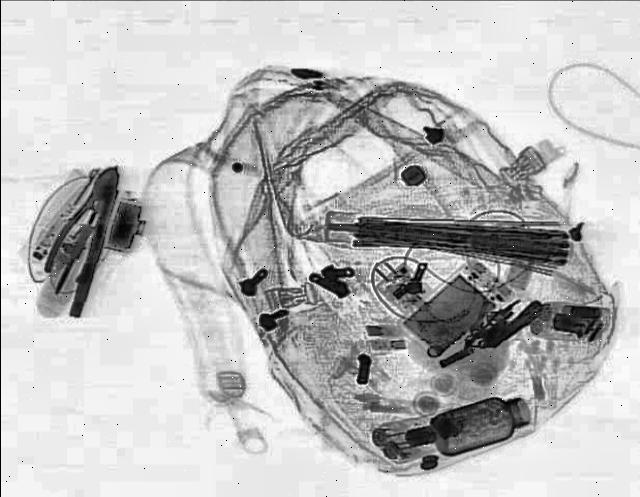Pliers: (39, 163, 138, 285)
